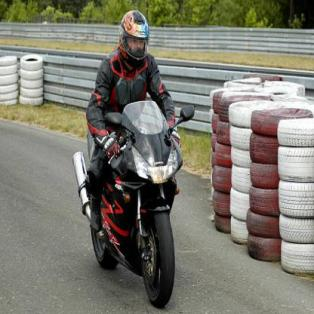Motocicleta: (69, 94, 197, 313)
